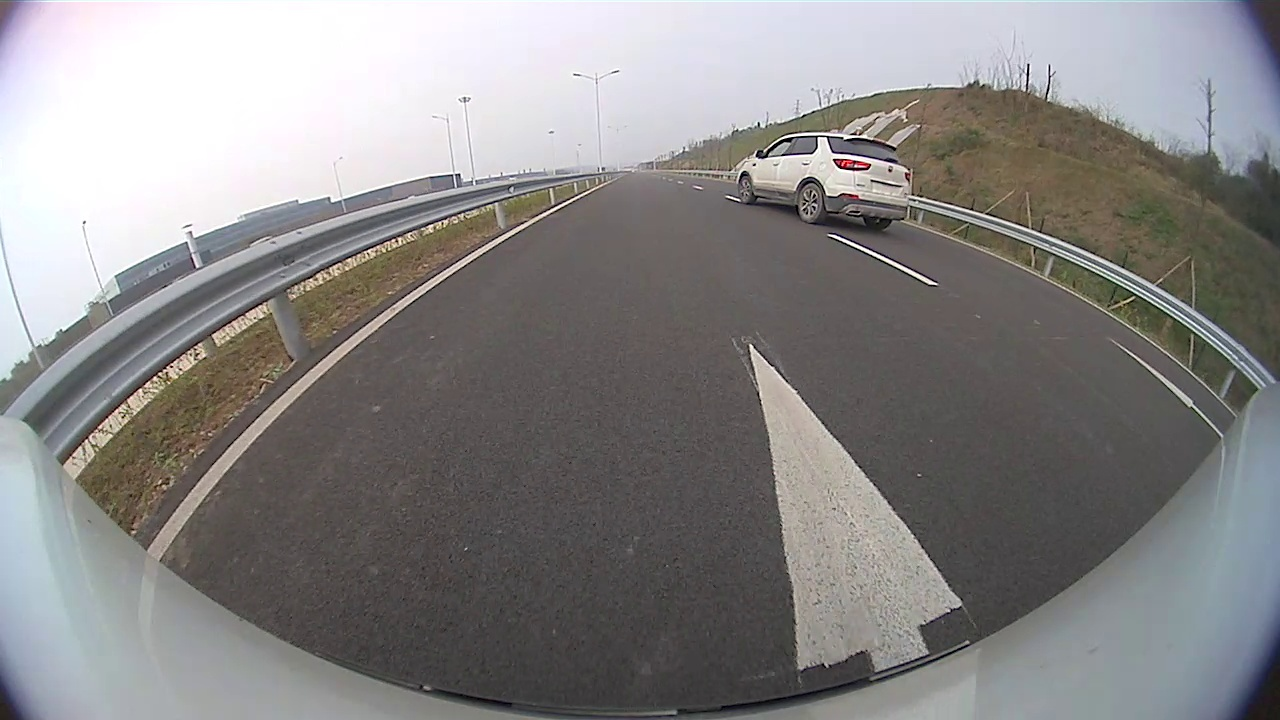car: (734, 132, 912, 231)
front: (736, 174, 757, 204)
rear: (796, 180, 827, 225)
